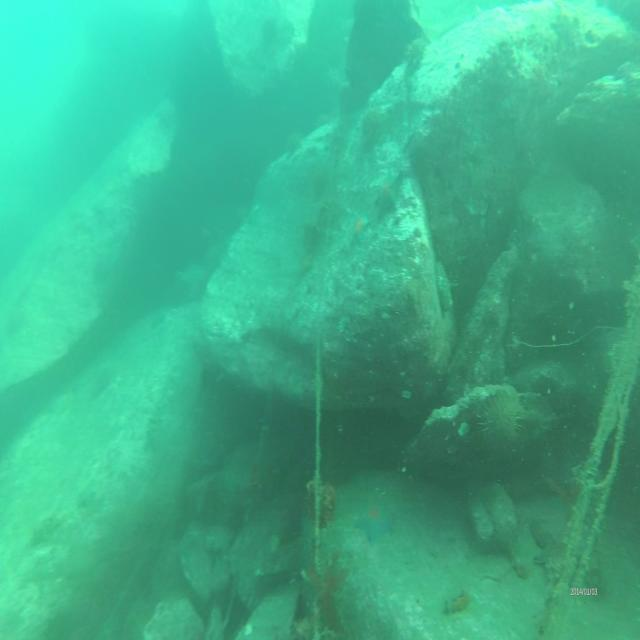echinus: (476, 392, 528, 460), (359, 103, 386, 149), (285, 128, 303, 158)
holothurian: (504, 540, 529, 579), (407, 36, 426, 73), (442, 590, 470, 612)
starfish: (535, 519, 575, 577), (353, 493, 398, 542), (348, 207, 372, 249)
